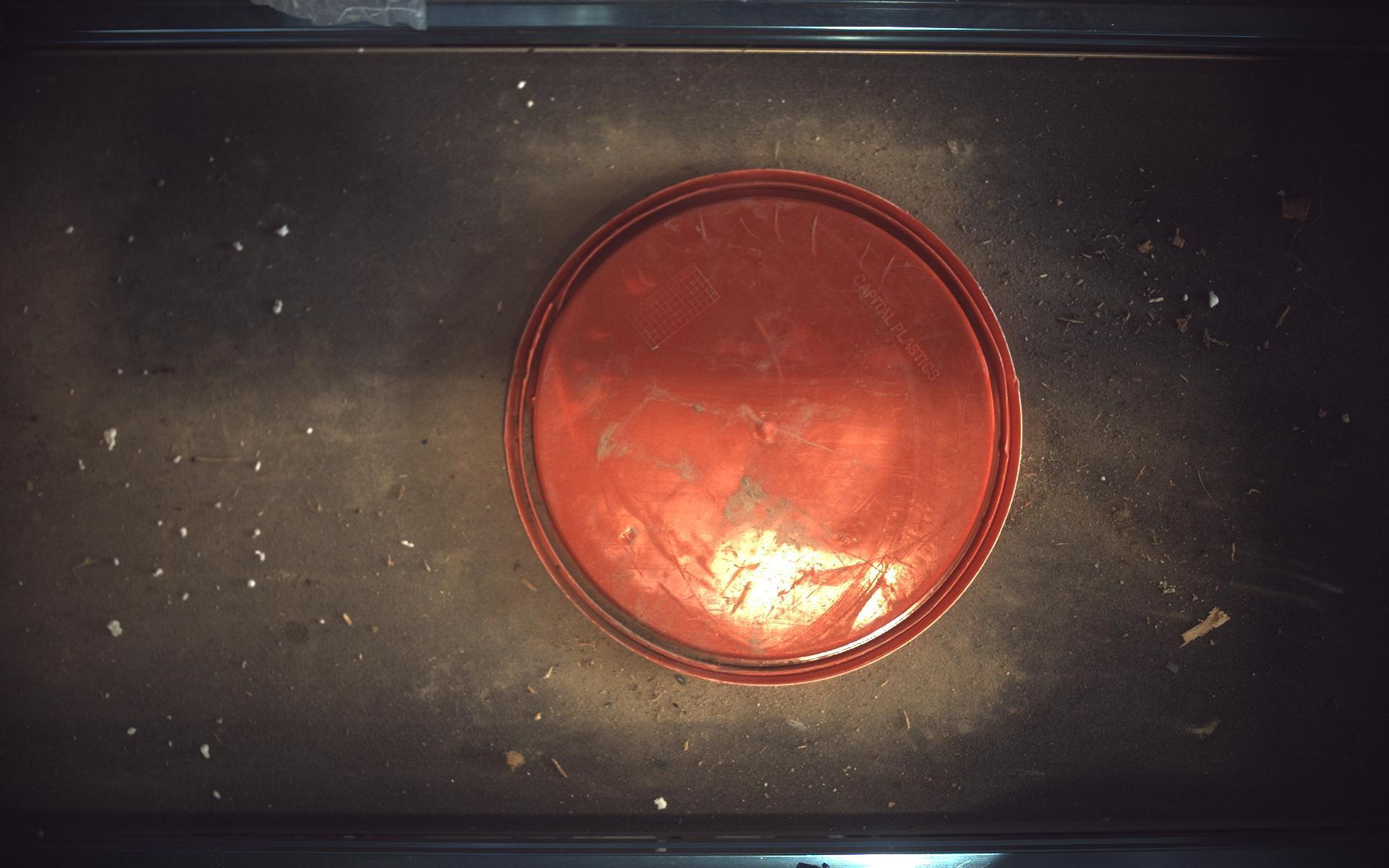plastic: (505, 169, 1024, 686)
